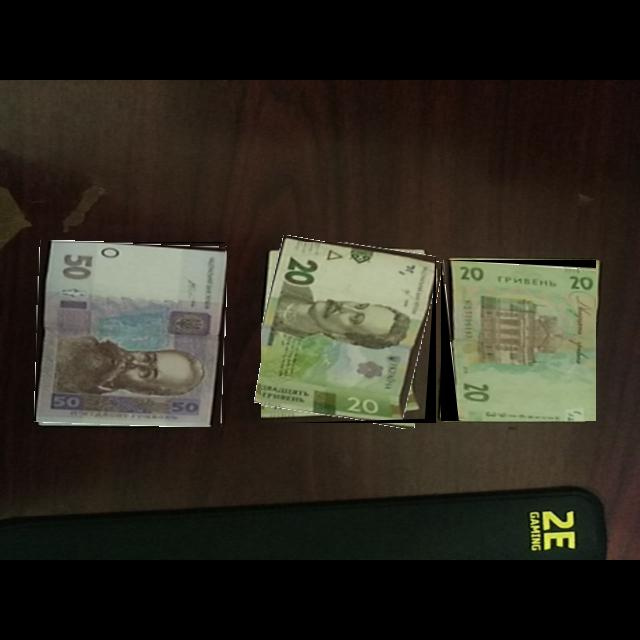20uah: (261, 242, 437, 424), (441, 260, 597, 422)
50uah: (36, 242, 226, 426)
